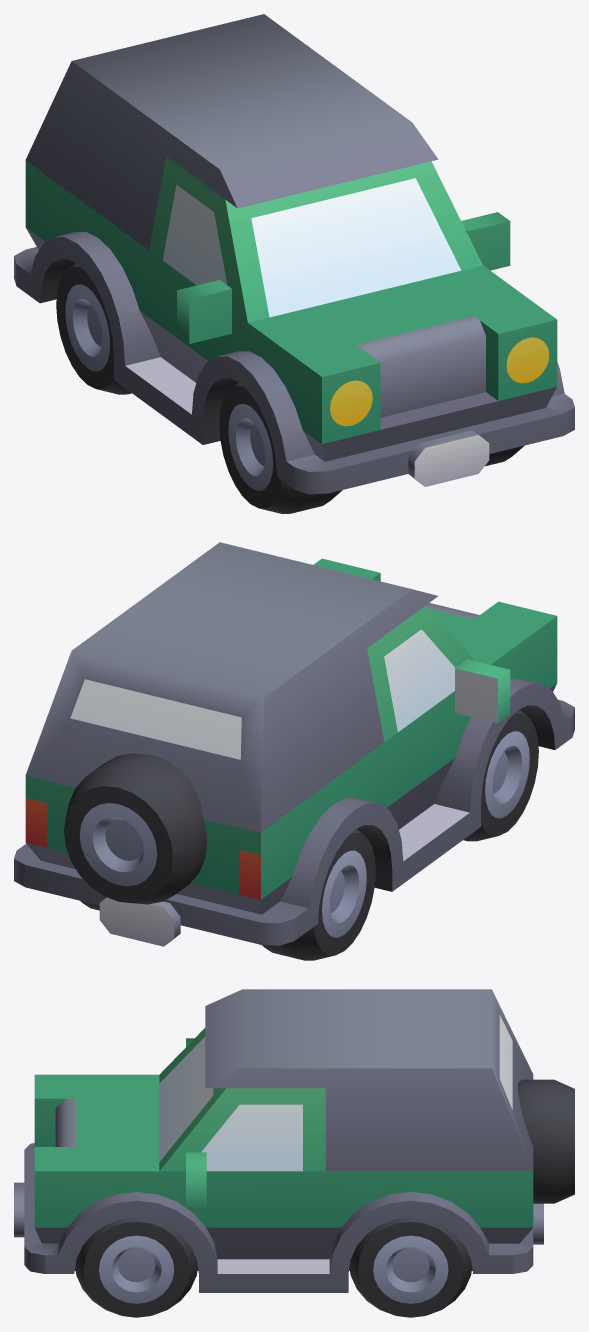
File: suv.glb
3 renders of one model, top to bottom at view 1: azimuth 30°, elevation 25°; view 2: azimuth 150°, elevation 25°; view 3: azimuth 270°, elevation 25°, orthographic. The views are drawn at different scales.
Parts seen in each view (by area): view 1: body, wheel-front-right, wheel-back-right; view 2: body, wheel-back, wheel-back-right, wheel-front-right; view 3: body, wheel-back-left, wheel-front-left, wheel-back.
Part boxes in pixels (x1,y1,x2,y2): body: (14, 14, 574, 494); wheel-front-right: (219, 382, 342, 513); wheel-back-right: (56, 262, 131, 394); body: (14, 542, 574, 946); wheel-back: (64, 753, 207, 904); wheel-back-right: (262, 829, 375, 960); wheel-front-right: (463, 709, 538, 841); body: (14, 989, 543, 1292); wheel-back-left: (349, 1217, 472, 1317); wheel-front-left: (75, 1217, 197, 1317); wheel-back: (517, 1079, 574, 1203).
Bounding box in the file's own units: 1.5 × 1.3 × 2.7.
Materials: 1 (1 with a texture image).
